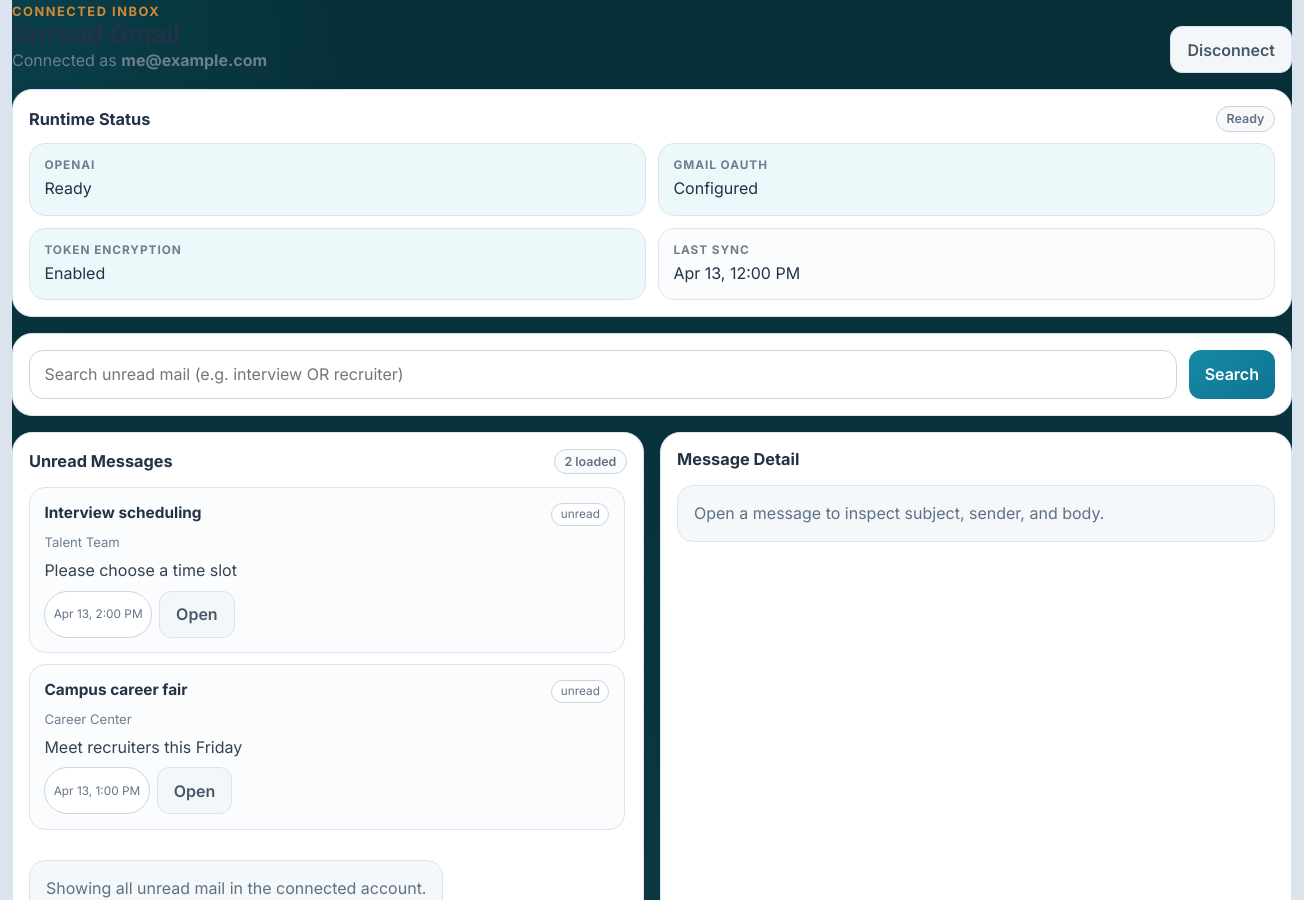
Test case: GmailPage › loads all unread messages and message detail when connected
Expected: the heading "Interview scheduling" is shown, 44,503 -> 202,524
Expected: the heading "Campus career fair" is shown, 44,680 -> 188,700
Click the button "Open" next to "Apr 13, 2:00 PM" at {"x": 197, "y": 614}, box 159,591 -> 235,638
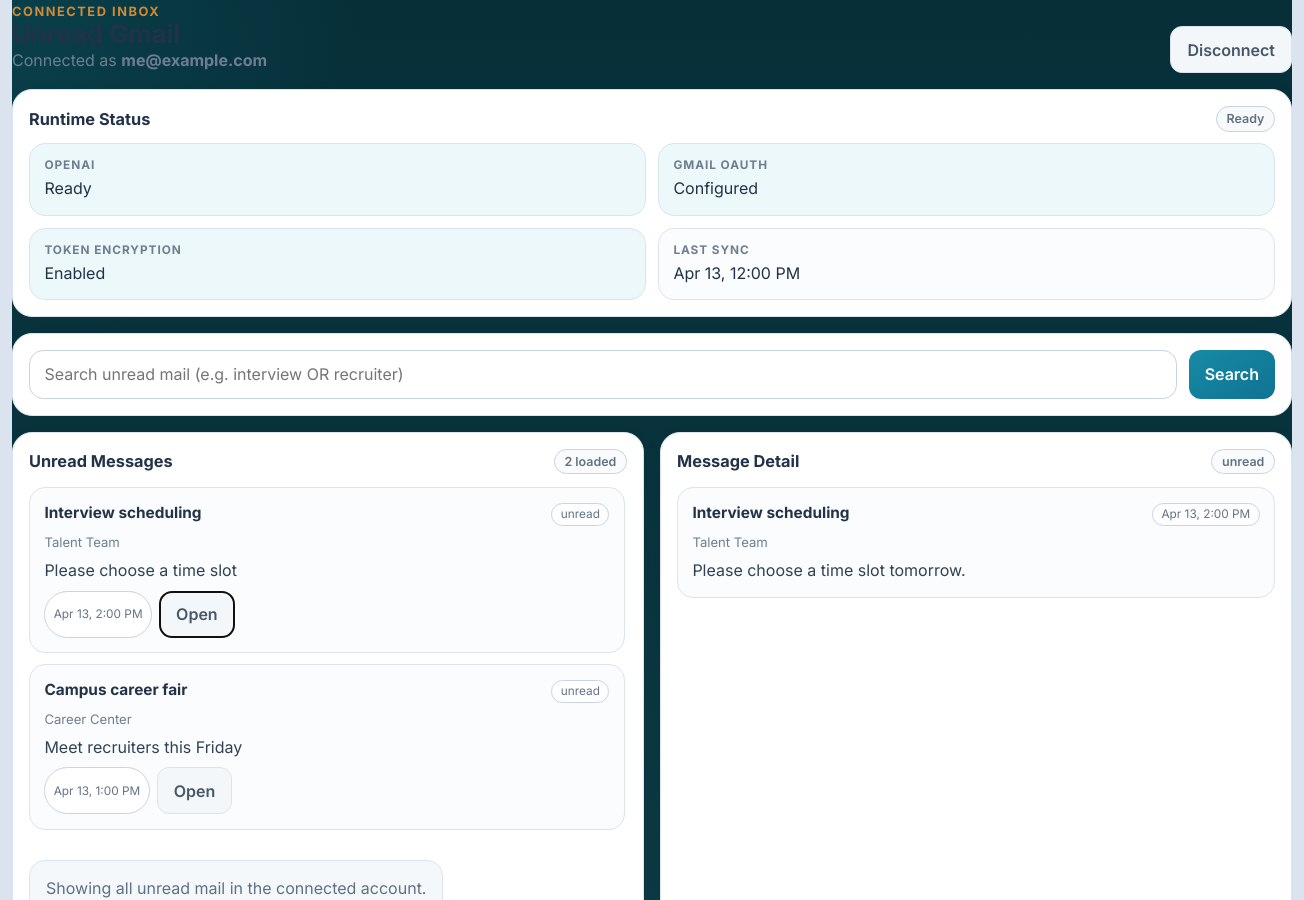
Now the text "Please choose a time slot tomorrow." is shown, box 692,560 -> 966,580
